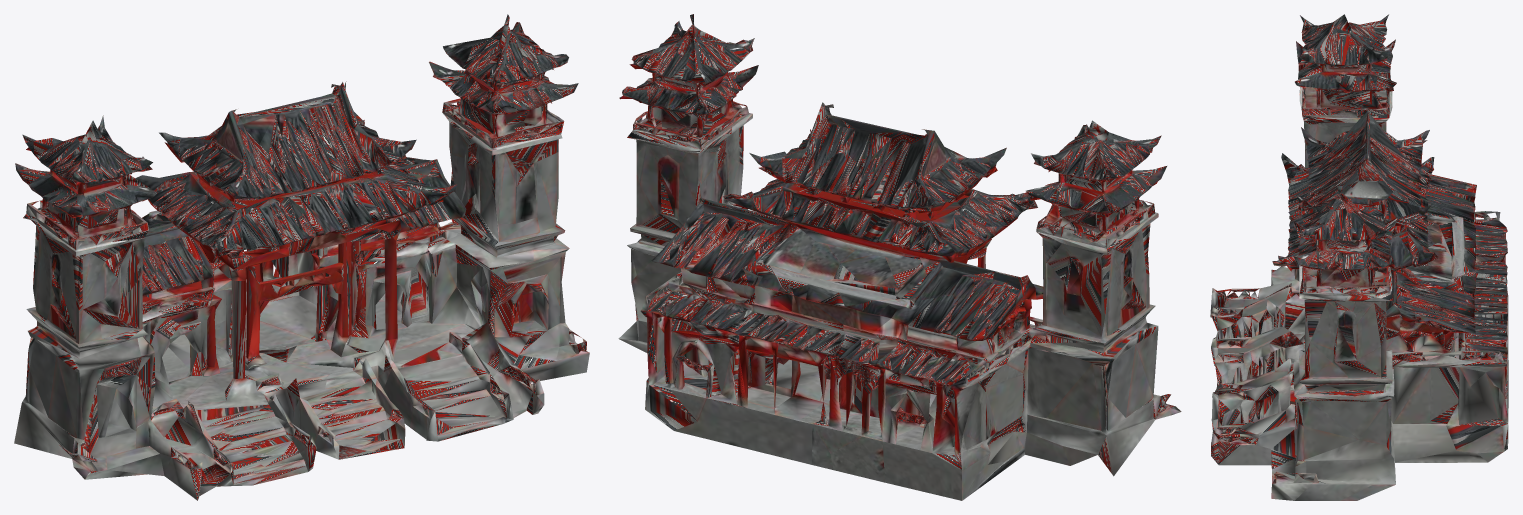
File: sect_gate_grand.mid.glb
The picture shows the model from 3 angles, left to right: view 1: azimuth 30°, elevation 25°; view 2: azimuth 150°, elevation 25°; view 3: azimuth 270°, elevation 25°; orthographic projection. The views are drawn at different scales.
Size of the model in its own units: 1.89 by 1.2 by 1.1.
Materials: 1 (1 with a texture image).
